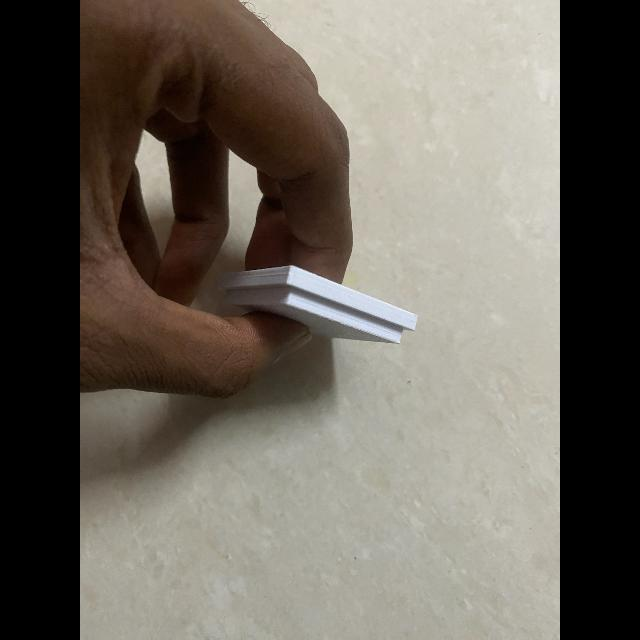RASPBERY PI CAM ENCLOSURE: (216, 266, 418, 344)
